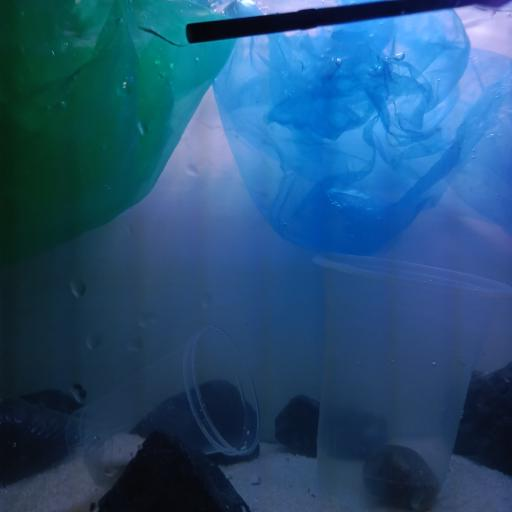plastic_bag: (216, 0, 508, 263), (0, 0, 246, 270)
plastic_cup: (311, 252, 512, 512), (65, 326, 260, 468), (0, 392, 115, 500)
plastic_straw: (185, 0, 481, 45)
